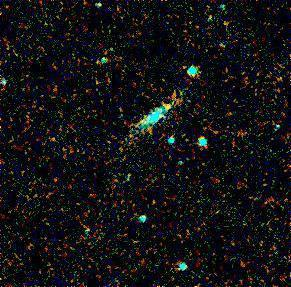star: (153, 92, 183, 122)
